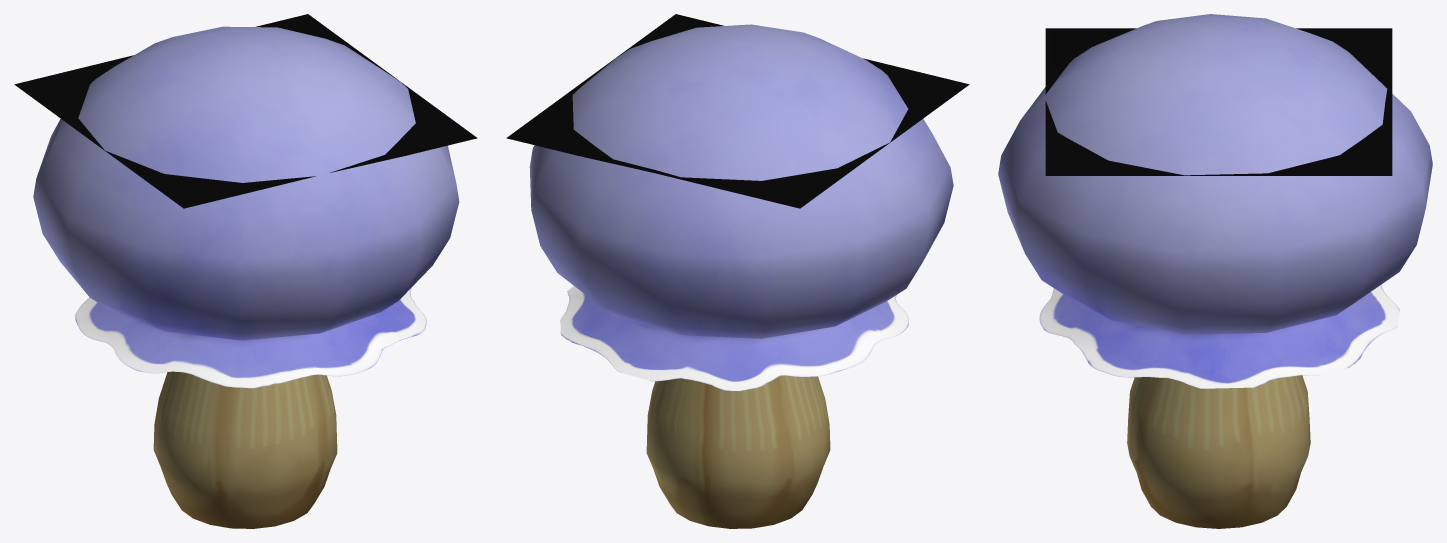
The model's file is Jellymushroom001.fbx.
The picture shows the model from 3 angles, left to right: view 1: azimuth 30°, elevation 25°; view 2: azimuth 150°, elevation 25°; view 3: azimuth 270°, elevation 25°; orthographic projection. The views are drawn at different scales.
Parts seen in each view (by area): view 1: Low_jellymush002, Low_jellymush001, Low_jellymush003; view 2: Low_jellymush002, Low_jellymush001, Low_jellymush003; view 3: Low_jellymush002, Low_jellymush001, Low_jellymush003.
Part boxes in pixels (x1,y1,x2,y2): Low_jellymush002: (33, 26, 459, 388); Low_jellymush001: (153, 371, 337, 528); Low_jellymush003: (14, 14, 477, 208); Low_jellymush002: (529, 24, 953, 391); Low_jellymush001: (646, 375, 830, 528); Low_jellymush003: (506, 14, 969, 208); Low_jellymush002: (998, 14, 1432, 388); Low_jellymush001: (1127, 375, 1310, 528); Low_jellymush003: (1045, 28, 1392, 175).
Bounding box in the file's own units: 112 × 132 × 112.
